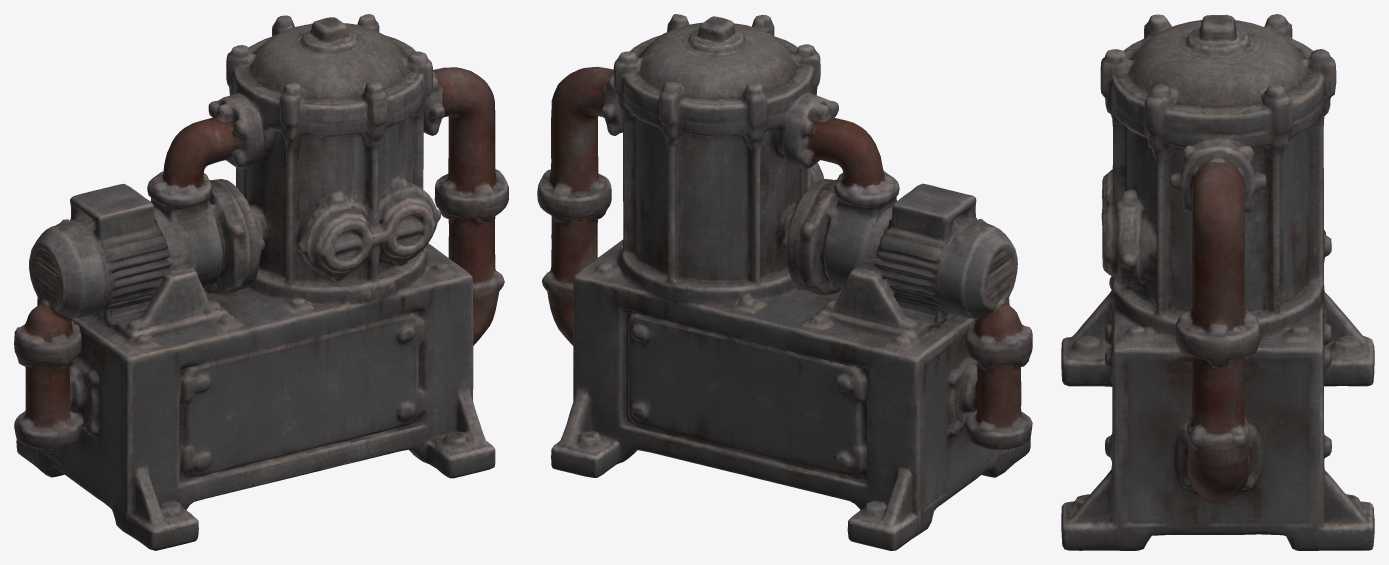
File: bunker_filtration_pump.glb
3 views of the same model, side by side, from view 1: azimuth 30°, elevation 25°; view 2: azimuth 150°, elevation 25°; view 3: azimuth 270°, elevation 25° (orthographic). The views are drawn at different scales.
Bounding box in the file's own units: 1.01 × 0.8352 × 0.4953.
1 material, 1 textured.
